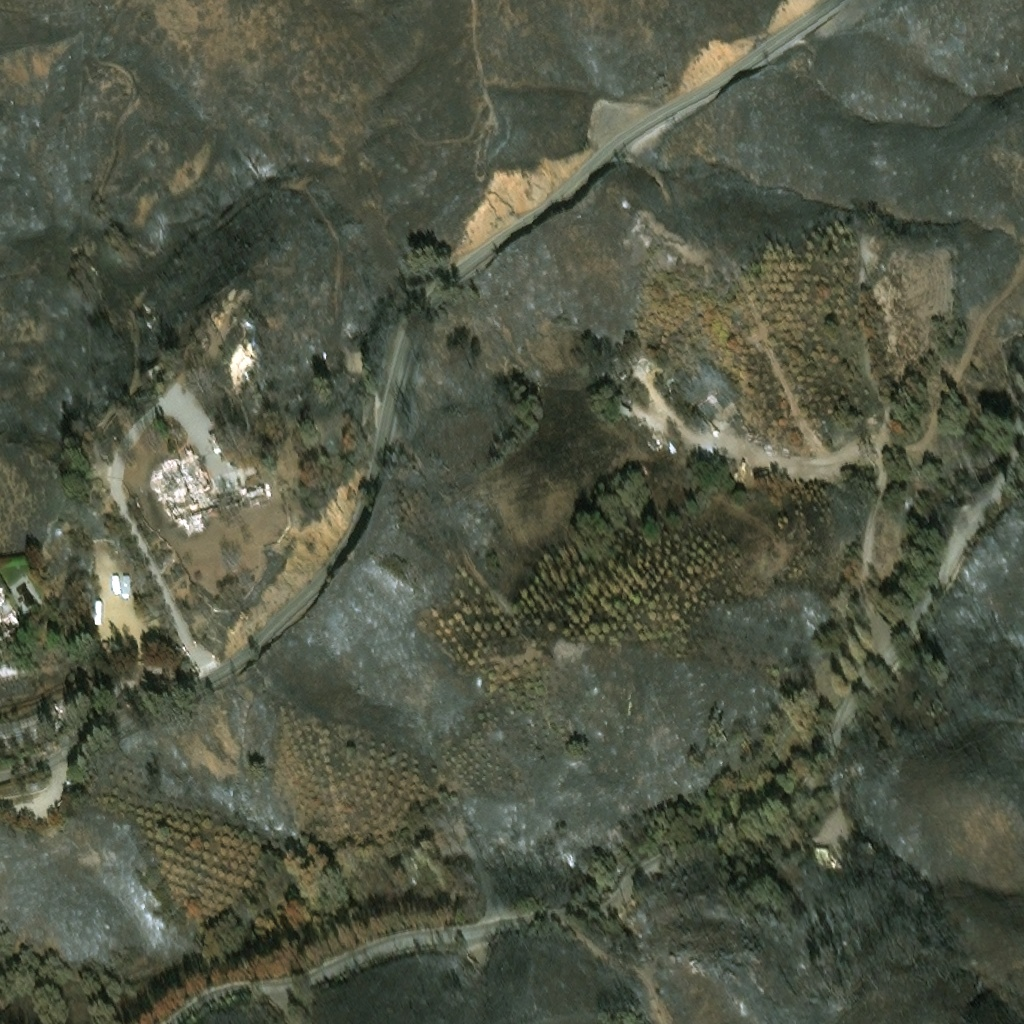3 destroyed: (147, 447, 266, 524), (0, 649, 100, 713), (0, 696, 77, 741), (695, 383, 738, 426), (0, 587, 19, 633), (638, 354, 654, 370), (802, 470, 816, 488), (632, 349, 647, 364), (142, 355, 158, 369), (244, 322, 255, 335), (810, 840, 826, 848)
4 un-classified: (92, 597, 100, 621), (120, 569, 128, 593), (109, 570, 119, 589)
